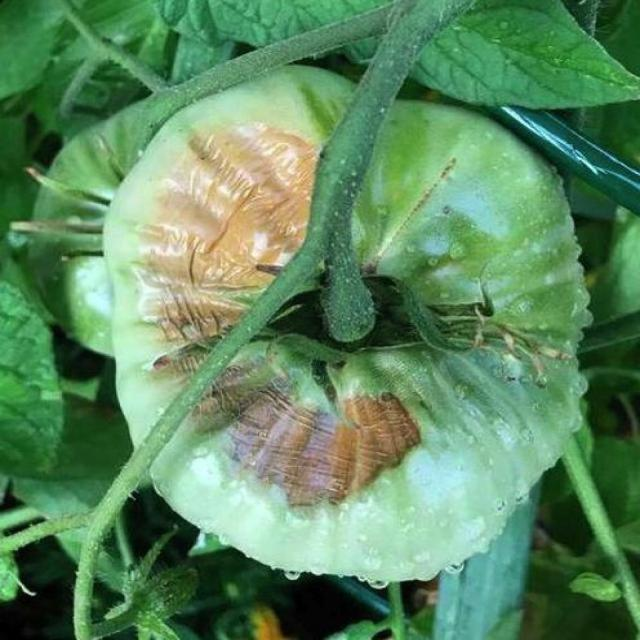Sunscald Fruit: (87, 79, 279, 342)
